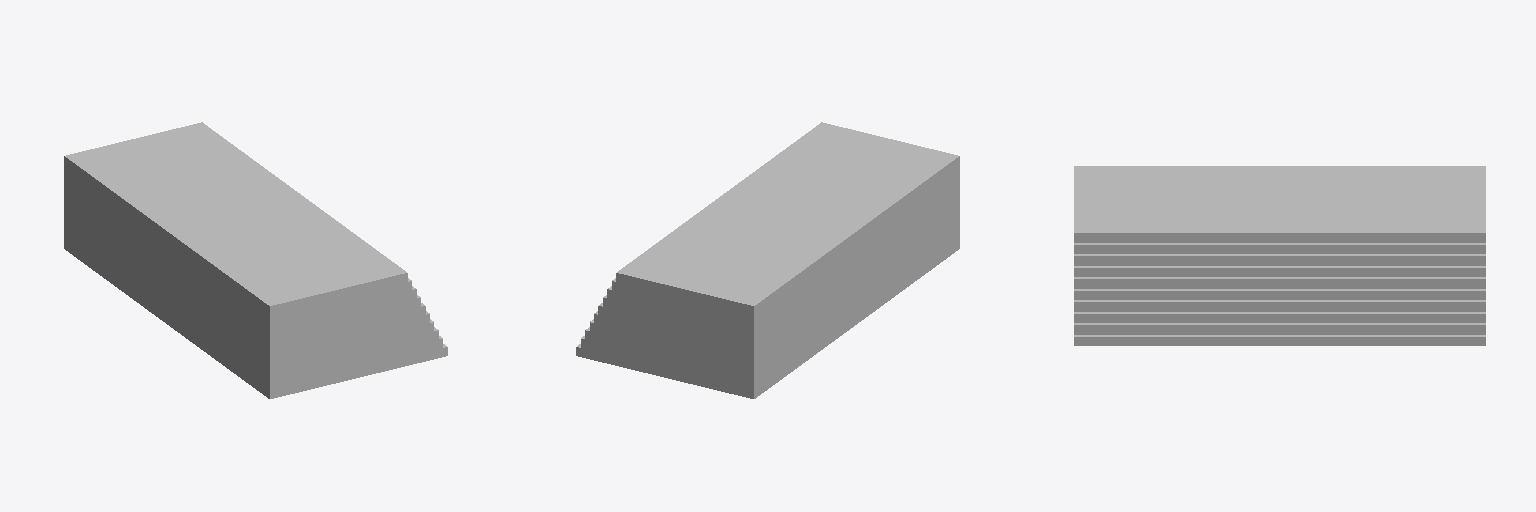
The model's file is Wall.obj.
3 renders of one model, left to right at view 1: azimuth 30°, elevation 25°; view 2: azimuth 150°, elevation 25°; view 3: azimuth 270°, elevation 25°, orthographic.
Visible parts, largest first — view 1: object 1; view 2: object 1; view 3: object 1.
Boxes of the visible parts, box(x1,y1,x2,y2) form: object 1: box(64, 122, 447, 398); object 1: box(576, 122, 959, 398); object 1: box(1074, 166, 1485, 345).
Size of the model in its own units: 4 by 2 by 8.